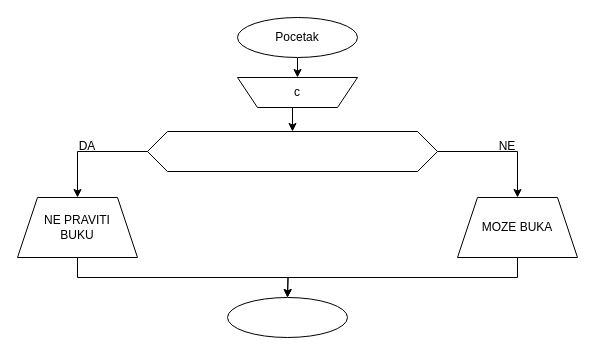
The diagram is 595 pixels wide and 355 high, and some of its shapes have lost their labels. The shapes that lost their labels are listed below. From the top down, each one's centre as x and y in pixels, then its label:
At [292,151]: "c < 6 or (c >= 13 and c < 17) or c >= 22".
At [287,317]: "KRAJ".
